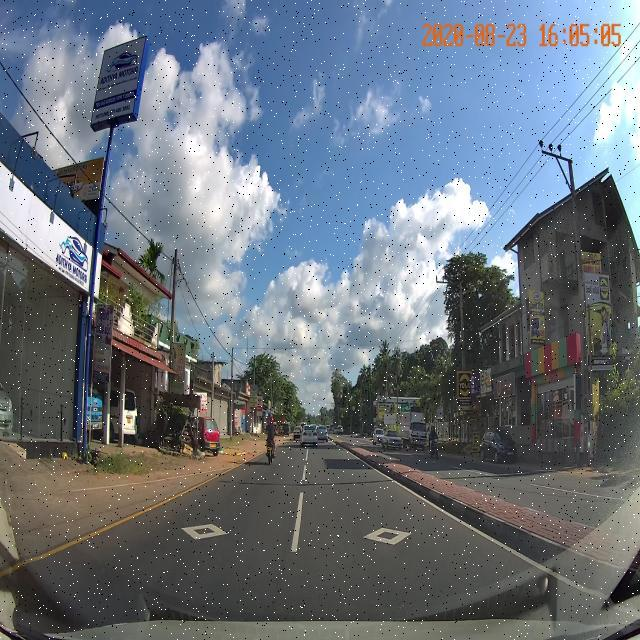diamond: (281, 491, 526, 569)
